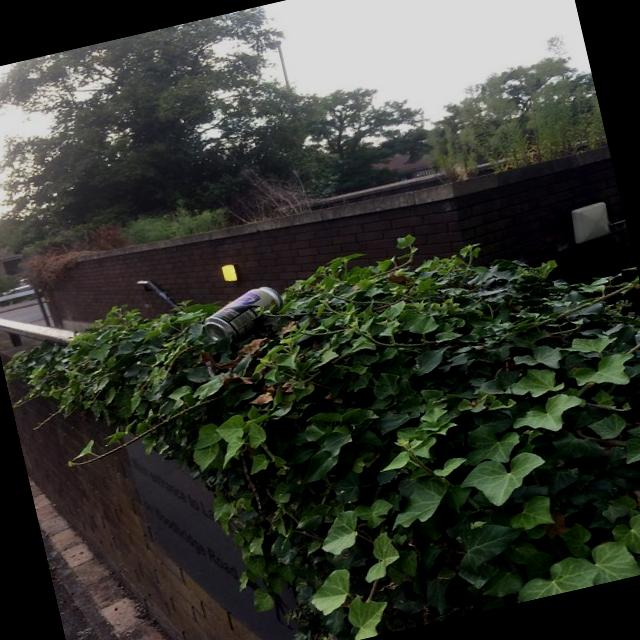Recycle: (195, 280, 288, 342)
